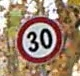limite 30: (13, 14, 64, 63)
